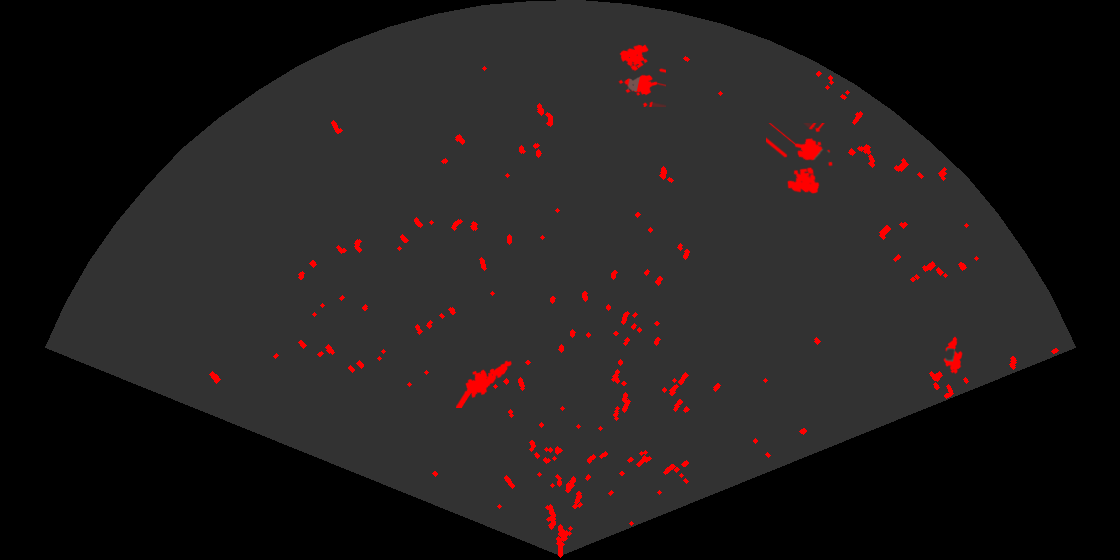AUV: (942, 335, 964, 376)
cage: (766, 123, 834, 195), (617, 43, 666, 107)
frogman: (456, 359, 513, 408)
